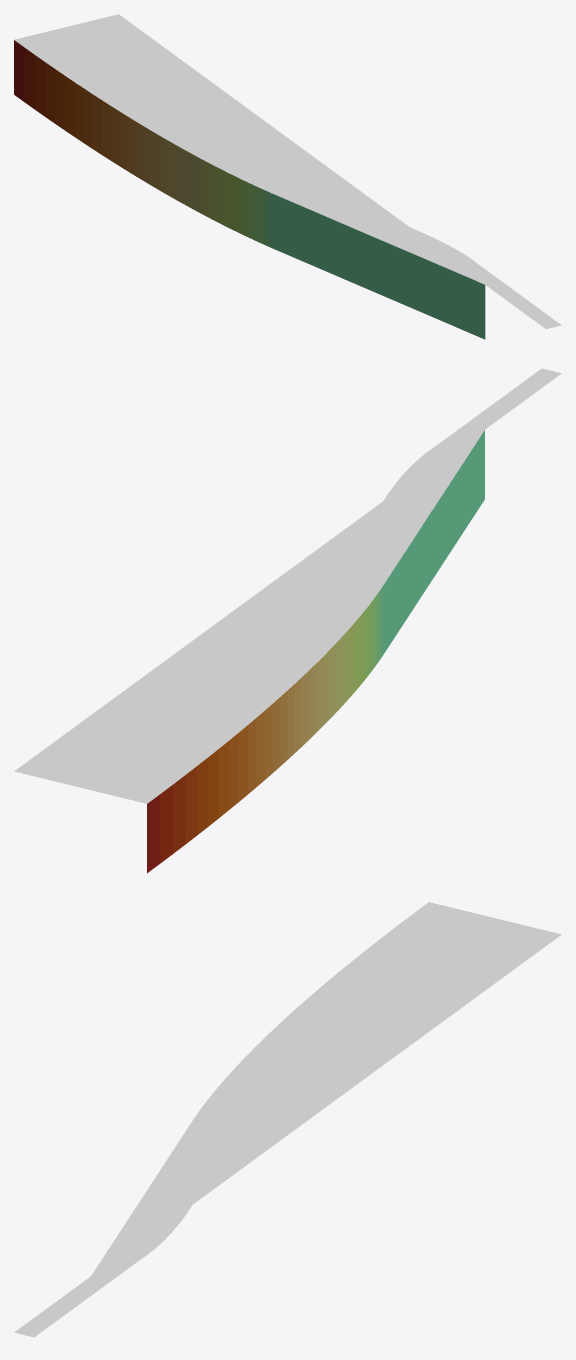
Rendered from scramjet_n38_m100.glb.
The picture shows the model from 3 angles, top to bottom: view 1: azimuth 30°, elevation 25°; view 2: azimuth 150°, elevation 25°; view 3: azimuth 330°, elevation 25°; orthographic projection. The views are drawn at different scales.
Parts seen in each view (by area): view 1: Renderer Node; view 2: Renderer Node; view 3: Renderer Node.
Boxes of the visible parts, x1,y1,x2,y2 form: Renderer Node: (14, 14, 561, 339); Renderer Node: (14, 368, 561, 873); Renderer Node: (14, 902, 561, 1337).
Size of the model in its own units: 1.13 by 0.5006 by 7.1.
